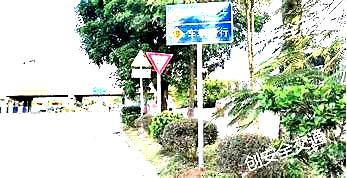sign: (165, 4, 234, 43)
